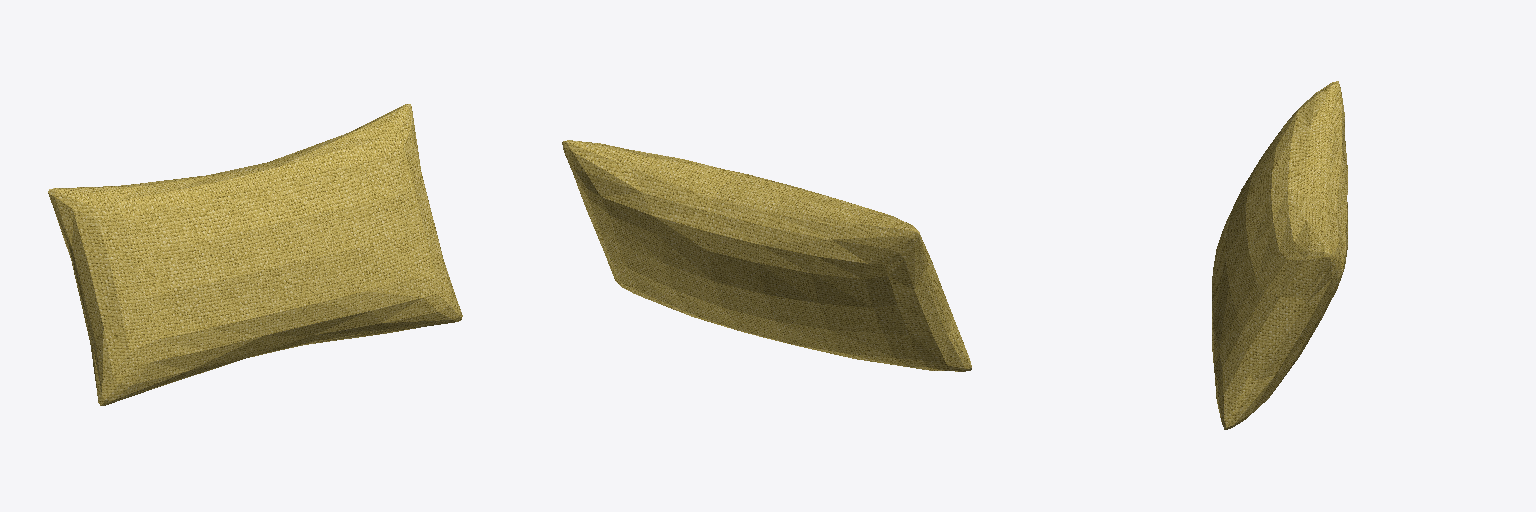
The picture shows the model from 3 angles: view 1: azimuth 30°, elevation 25°; view 2: azimuth 150°, elevation 25°; view 3: azimuth 270°, elevation 25°; orthographic projection.
Parts seen in each view (by area): view 1: Object001; view 2: Object001; view 3: Object001.
Boxes of the visible parts, x1=… form: Object001: x1=48, y1=104, x2=462, y2=405; Object001: x1=562, y1=140, x2=971, y2=371; Object001: x1=1212, y1=81, x2=1347, y2=429.
Size of the model in its own units: 41.02 by 19.54 by 13.44.
Materials: 1 (1 with a texture image).